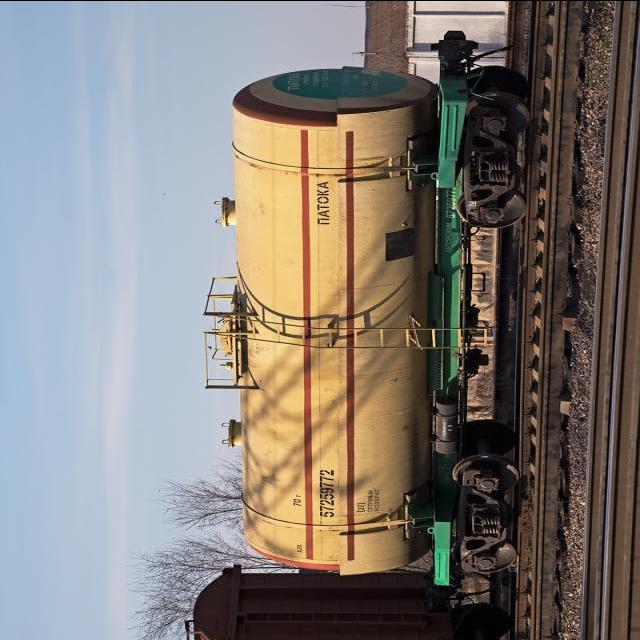wagon: (312, 467, 340, 519)
